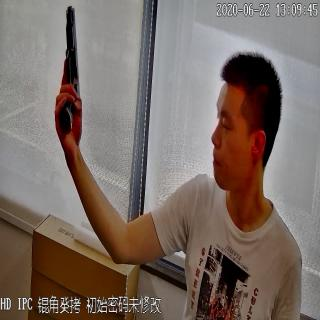gun: (52, 5, 84, 138)
